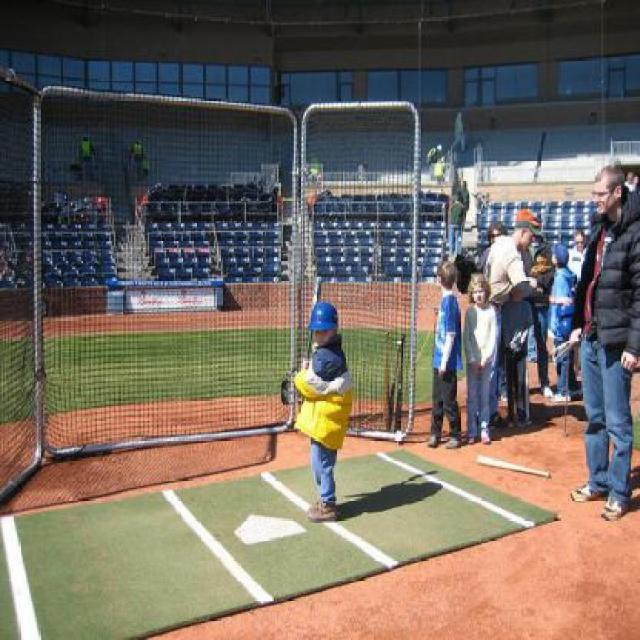Person: (570, 166, 639, 522), (484, 208, 574, 429), (290, 302, 352, 522), (426, 258, 463, 450), (464, 278, 501, 444), (521, 239, 556, 399), (551, 246, 578, 402), (478, 219, 509, 270), (448, 180, 470, 240), (568, 229, 588, 283), (449, 195, 466, 258), (78, 130, 100, 178), (128, 139, 146, 163)
